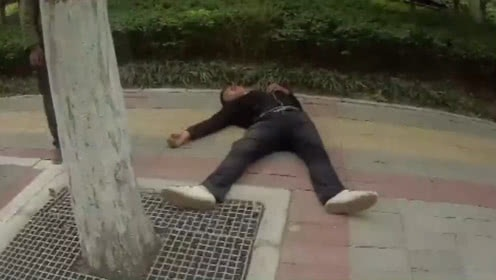falling: (150, 71, 389, 216)
